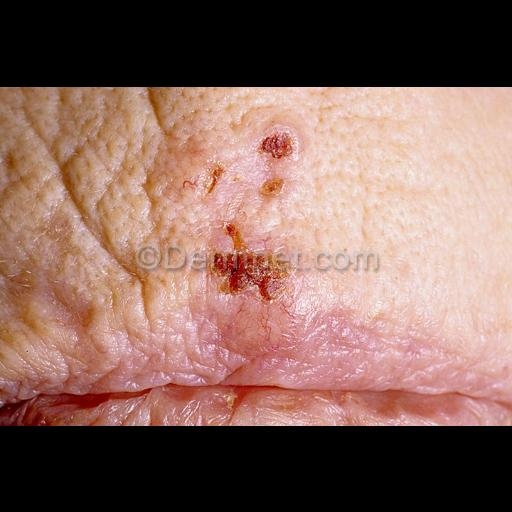Skin_Lesion: (188, 202, 294, 302), (177, 154, 231, 198), (258, 120, 306, 166), (254, 174, 294, 200)
